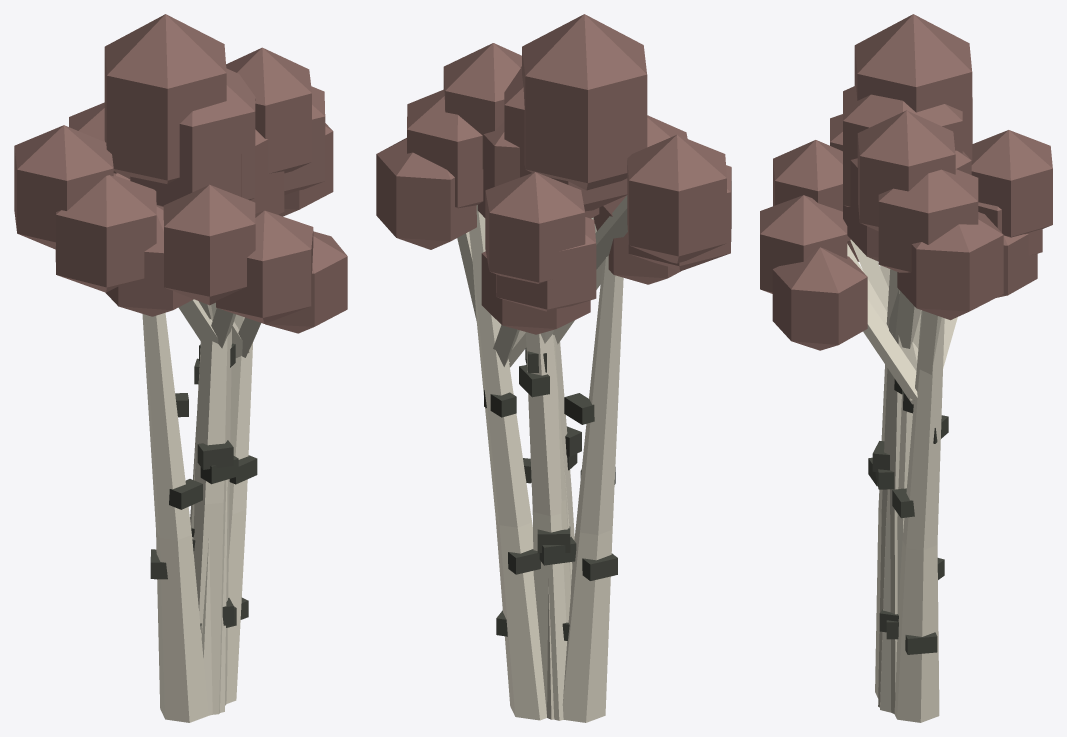
The model's file is tree_birch_winter.glb.
3 renders of one model, left to right at view 1: azimuth 30°, elevation 25°; view 2: azimuth 150°, elevation 25°; view 3: azimuth 270°, elevation 25°, orthographic. The views are drawn at different scales.
Visible parts, largest first — view 1: Birch_bare_twigs_canopy.010, Birch_pale_stem.001, Birch_bare_twigs_canopy.001, Birch_bare_twigs_canopy.013, Birch_pale_stem.003, Birch_bare_twigs_canopy, Birch_bare_twigs_canopy.011, Birch_bare_twigs_canopy.003, Birch_bare_twigs_canopy.012, Birch_pale_stem.002, Birch_bare_twigs_canopy.008, Birch_bare_twigs_canopy.006 (+10 smaller); view 2: Birch_bare_twigs_canopy.010, Birch_pale_stem.001, Birch_pale_stem.002, Birch_bare_twigs_canopy.011, Birch_bare_twigs_canopy.014, Birch_pale_stem, Birch_bare_twigs_canopy.007, Birch_bare_twigs_canopy.002, Birch_bare_twigs_canopy.012, Birch_bare_twigs_canopy.004, Birch_bare_twigs_canopy.009, Birch_pale_stem.003 (+15 smaller); view 3: Birch_pale_stem.002, Birch_bare_twigs_canopy.010, Birch_bare_twigs_canopy.008, Birch_bare_twigs_canopy.007, Birch_bare_twigs_canopy.012, Birch_bare_twigs_canopy.014, Birch_bare_twigs_canopy.002, Birch_bare_twigs_canopy.003, Birch_bare_twigs_canopy.013, Birch_pale_stem.003, Birch_bare_twigs_canopy, Birch_pale_stem (+11 smaller).
Part boxes in pixels (left/top/right/bottom): Birch_bare_twigs_canopy.010: left=104, top=14, right=226, bottom=183; Birch_pale_stem.001: left=142, top=312, right=208, bottom=722; Birch_bare_twigs_canopy.001: left=55, top=175, right=156, bottom=292; Birch_bare_twigs_canopy.013: left=163, top=184, right=255, bottom=305; Birch_pale_stem.003: left=190, top=328, right=231, bottom=714; Birch_bare_twigs_canopy: left=130, top=68, right=255, bottom=206; Birch_bare_twigs_canopy.011: left=14, top=125, right=113, bottom=249; Birch_bare_twigs_canopy.003: left=216, top=210, right=313, bottom=323; Birch_bare_twigs_canopy.012: left=226, top=47, right=311, bottom=173; Birch_pale_stem.002: left=226, top=314, right=252, bottom=703; Birch_bare_twigs_canopy.008: left=265, top=231, right=347, bottom=333; Birch_bare_twigs_canopy.006: left=105, top=205, right=193, bottom=316; Birch_bare_twigs_canopy.010: left=522, top=14, right=647, bottom=190; Birch_pale_stem.001: left=562, top=255, right=623, bottom=722; Birch_pale_stem.002: left=469, top=205, right=546, bottom=720; Birch_bare_twigs_canopy.011: left=627, top=135, right=726, bottom=263; Birch_bare_twigs_canopy.014: left=485, top=172, right=585, bottom=283; Birch_pale_stem: left=526, top=332, right=572, bottom=720; Birch_bare_twigs_canopy.007: left=376, top=138, right=476, bottom=249; Birch_bare_twigs_canopy.002: left=407, top=89, right=483, bottom=208; Birch_bare_twigs_canopy.012: left=443, top=43, right=521, bottom=168; Birch_bare_twigs_canopy.004: left=496, top=217, right=596, bottom=311; Birch_bare_twigs_canopy.009: left=481, top=251, right=590, bottom=334; Birch_pale_stem.003: left=547, top=335, right=574, bottom=719; Birch_pale_stem.002: left=894, top=310, right=944, bottom=722; Birch_bare_twigs_canopy.010: left=854, top=14, right=972, bottom=160; Birch_bare_twigs_canopy.008: left=772, top=247, right=867, bottom=350; Birch_bare_twigs_canopy.007: left=897, top=212, right=1003, bottom=320; Birch_bare_twigs_canopy.012: left=857, top=110, right=955, bottom=231; Birch_bare_twigs_canopy.014: left=971, top=130, right=1052, bottom=237; Birch_bare_twigs_canopy.002: left=878, top=169, right=978, bottom=272; Birch_bare_twigs_canopy.003: left=760, top=195, right=847, bottom=293; Birch_bare_twigs_canopy.013: left=773, top=140, right=850, bottom=242; Birch_pale_stem.003: left=878, top=289, right=902, bottom=713; Birch_bare_twigs_canopy: left=843, top=85, right=962, bottom=206; Birch_pale_stem: left=880, top=310, right=921, bottom=712.
Bounding box in the file's own units: 1.56 × 3.23 × 1.27.
